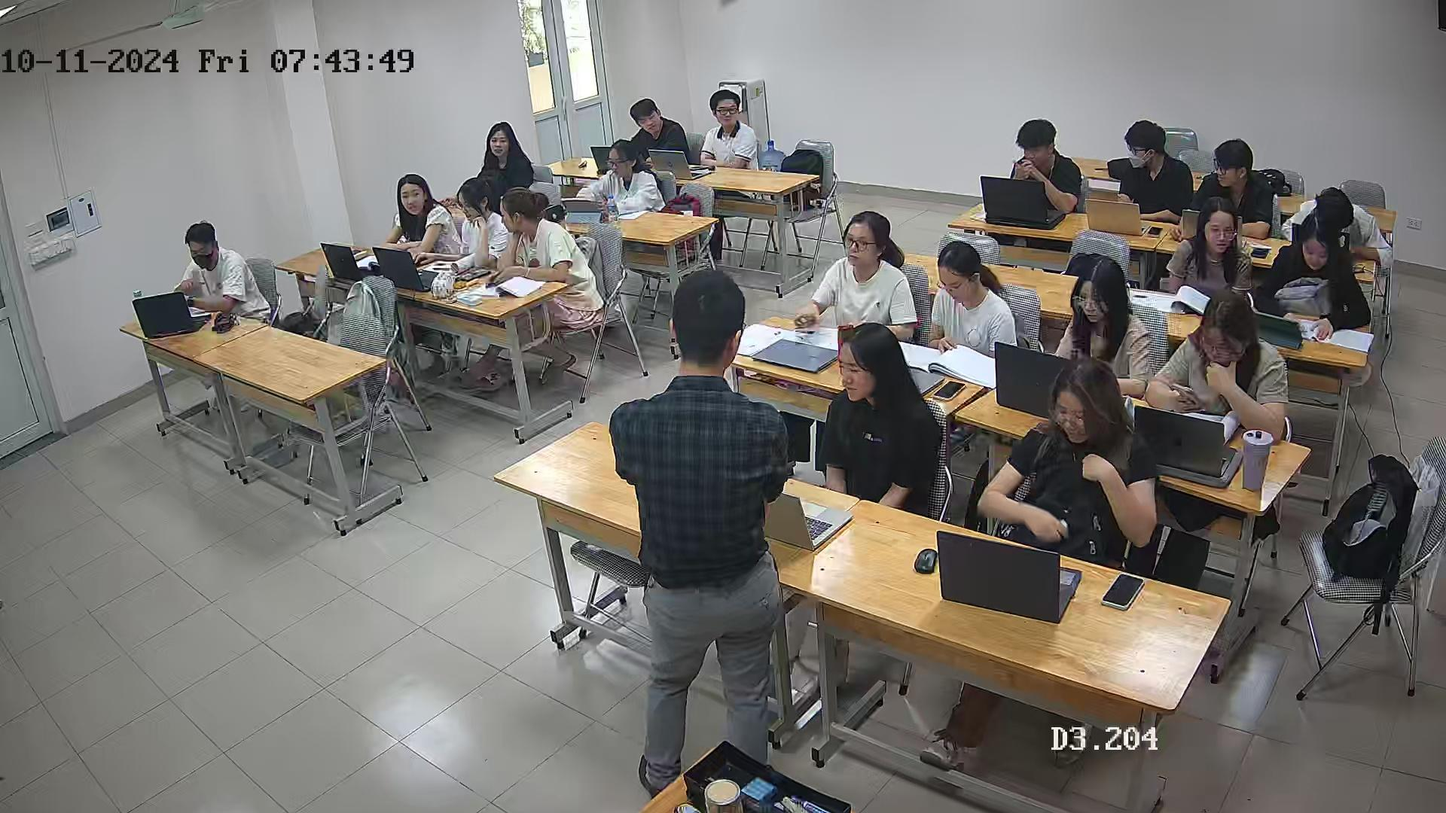Hand Under Table: (821, 452, 846, 495), (884, 473, 910, 512)
Look Around: (1120, 117, 1176, 191), (698, 91, 755, 160), (1203, 137, 1254, 196), (499, 188, 546, 238)
Stand Up: (642, 265, 788, 765)
phone: (1171, 368, 1205, 413)
